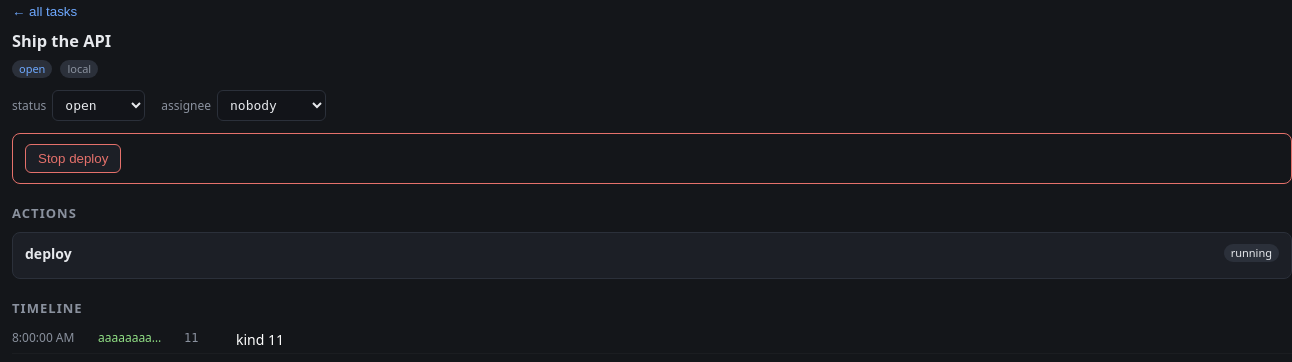
it: ThreadView Stop › sends an interrupt and then says there is no receipt for it
Click the button "Stop deploy": point(73, 159) [25, 144, 121, 173]
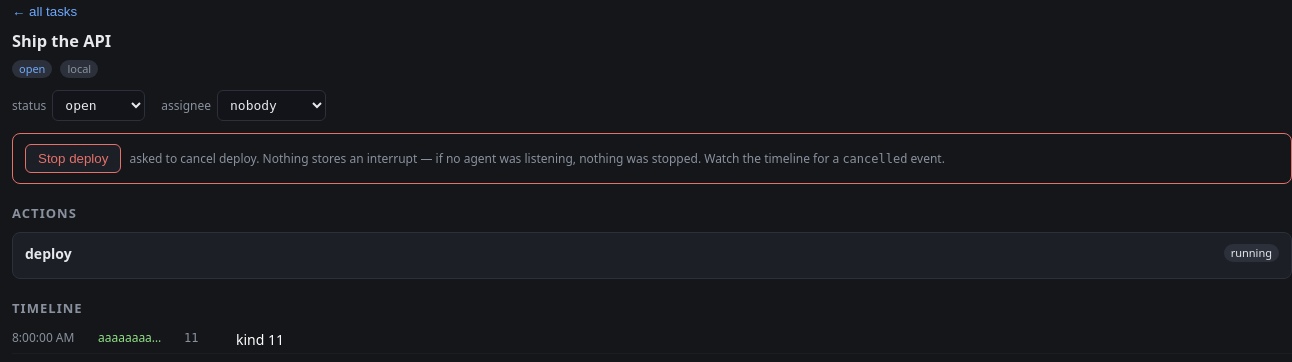
Check: the text "Nothing stores an interrupt" is shown, box [256, 150, 842, 167]
